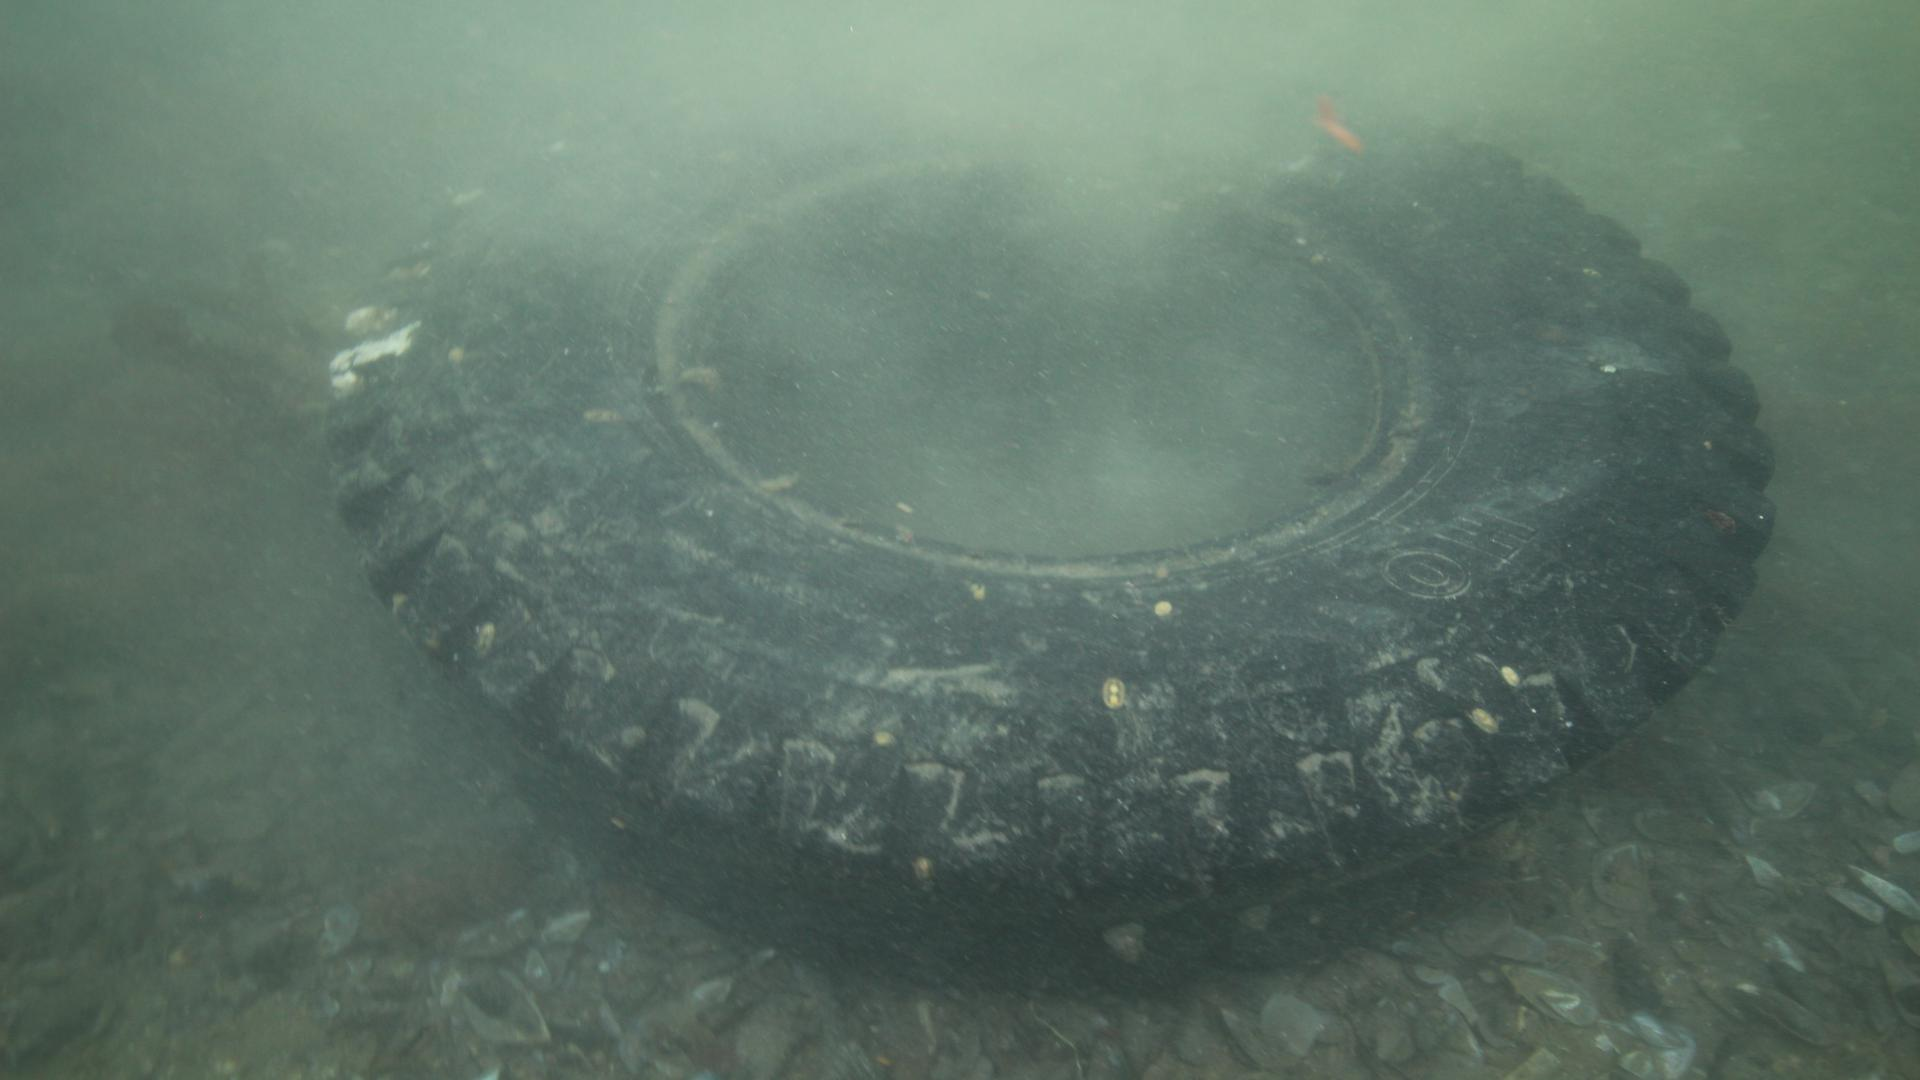tire: (320, 88, 1779, 993)
